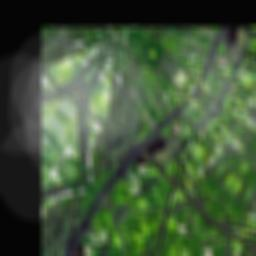Cuckoo: (86, 88, 193, 213)
